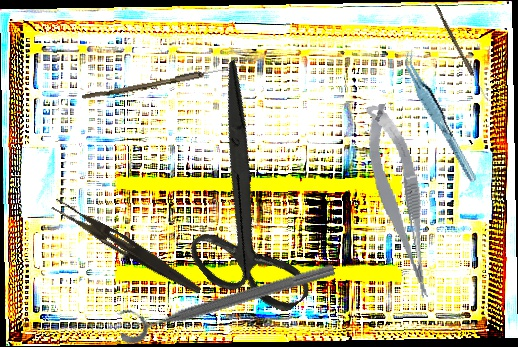Dressing Forceps: (48, 197, 206, 297)
Fixation Ring: (113, 246, 338, 347)
Iris Scissors: (110, 59, 380, 338)
Micro Scissor: (360, 100, 438, 303)
Surgical Spoon: (81, 60, 246, 104), (432, 3, 489, 100)
Tissue Forceps: (399, 44, 479, 190)
